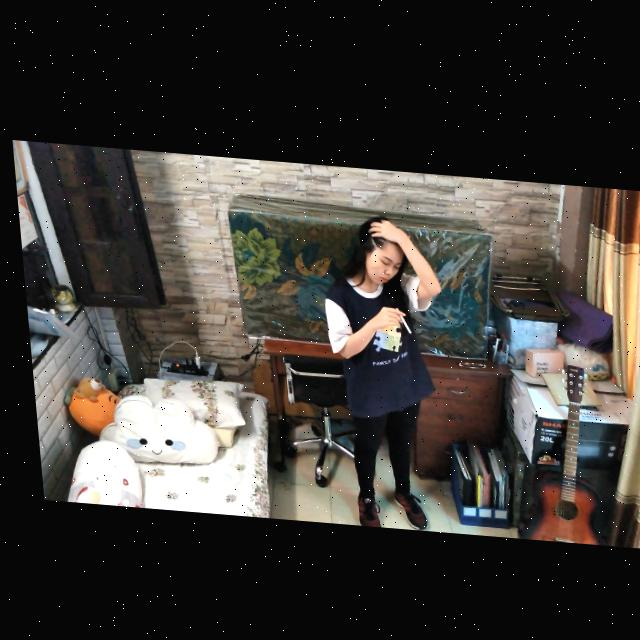cigarette: (390, 302, 407, 328)
